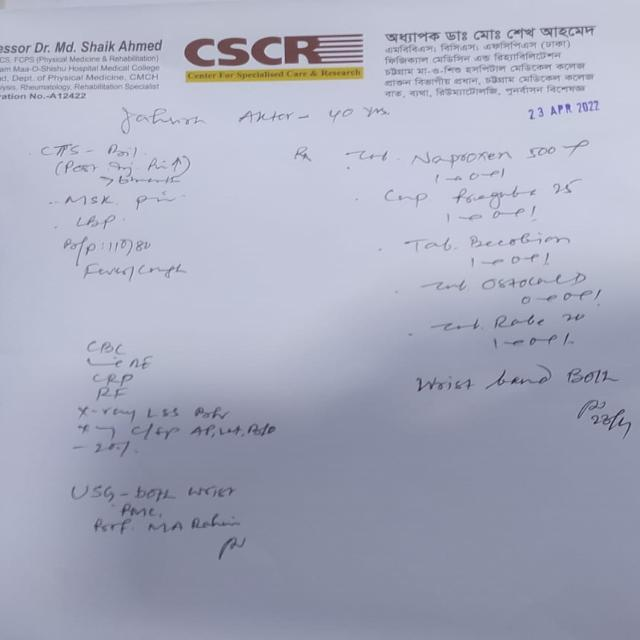Becobion: (459, 229, 576, 255)
Naproxen: (399, 145, 516, 173)
Ostocal D: (474, 270, 600, 293)
Pregaba: (440, 185, 549, 208)
Rabe: (486, 308, 558, 331)
